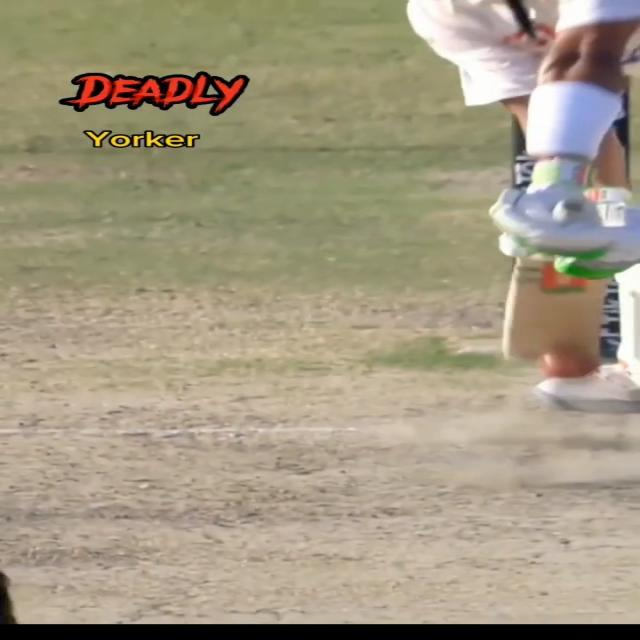Cricket ball: (536, 344, 604, 380)
